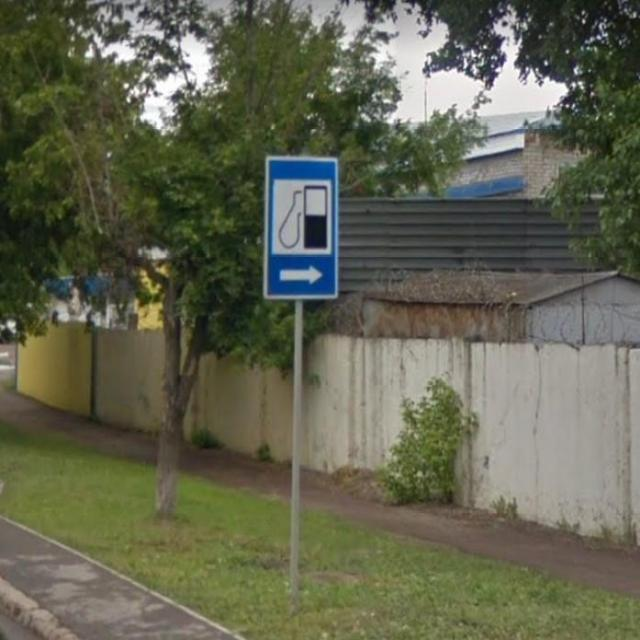traffic_sign: (259, 146, 345, 308)
